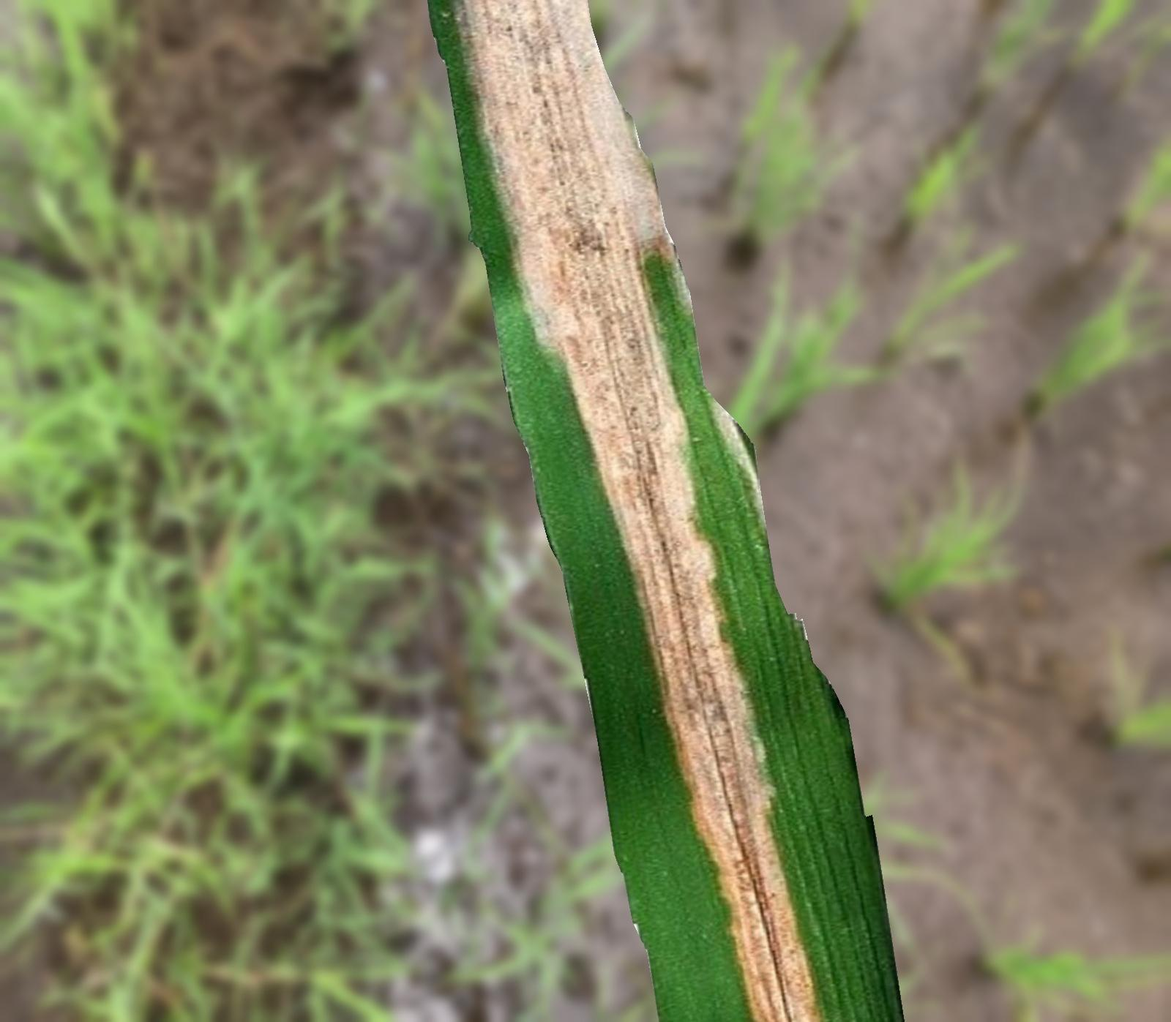BLB: (452, 1, 821, 1021)
LEAF: (427, 0, 904, 1021)
